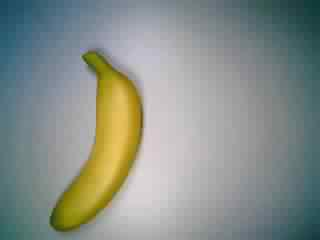banana: (49, 48, 145, 231)
